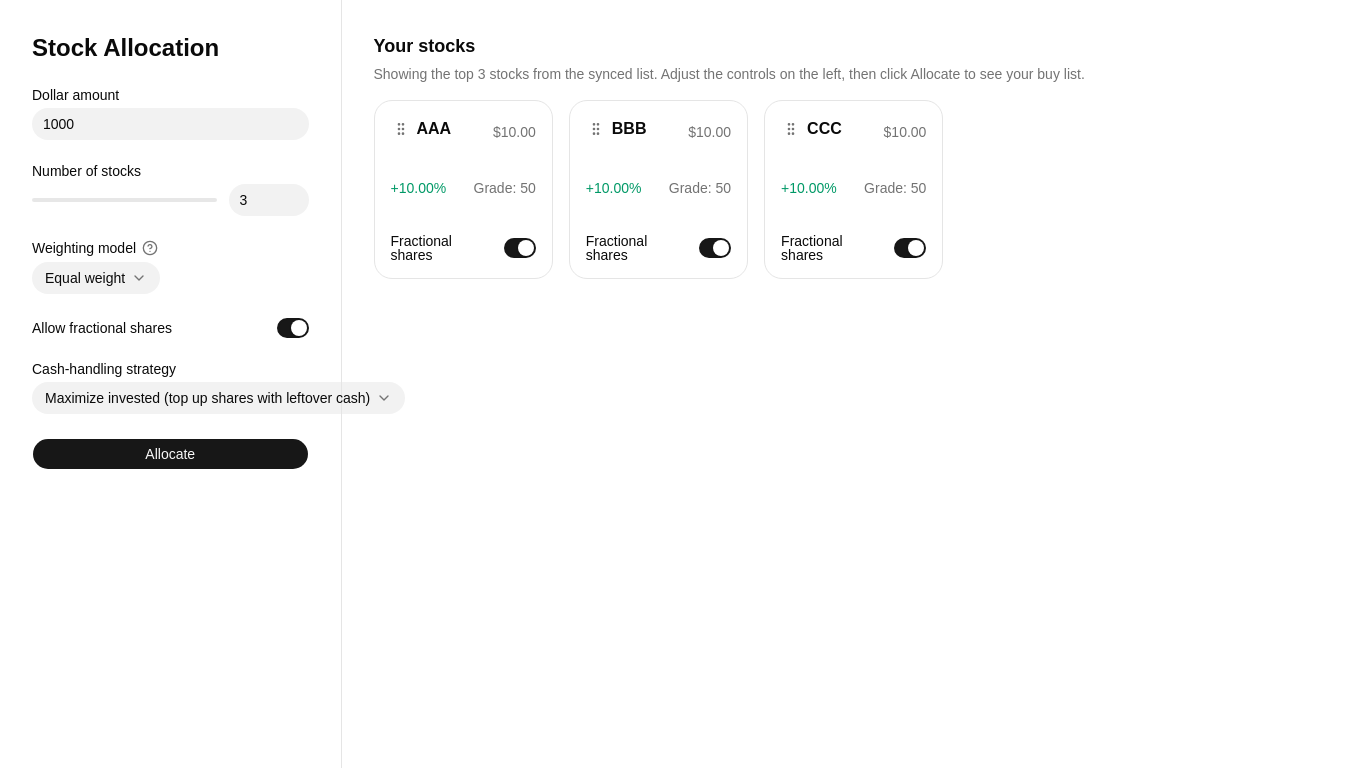
Scenario: AllocationPage - clicking Allocate › runs the calculation engine with the current inputs and displays the results
Replace the text in the number field labelled "Dollar amount" with "300": (170, 124) top-left (32, 108), bottom-right (308, 140)
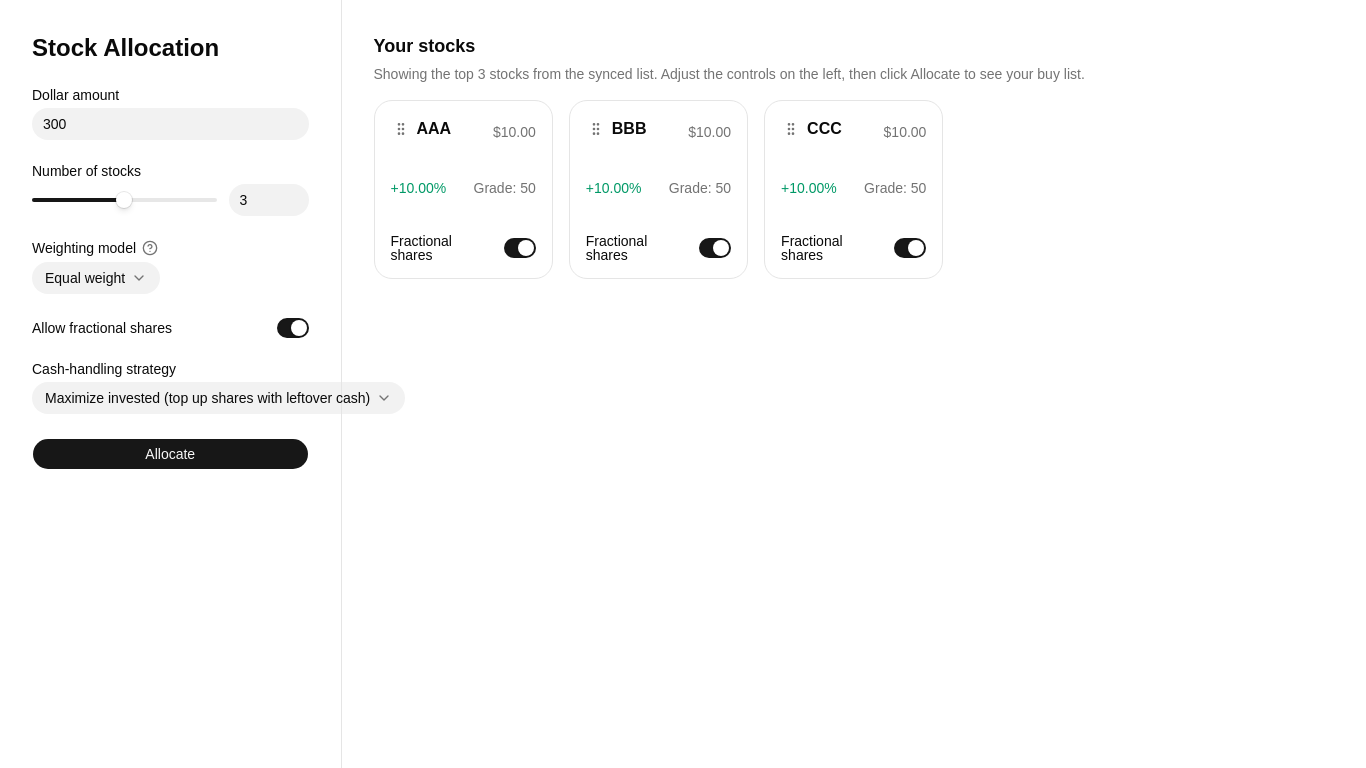
Click the button "Allocate": click(170, 454) top-left (32, 438), bottom-right (308, 470)
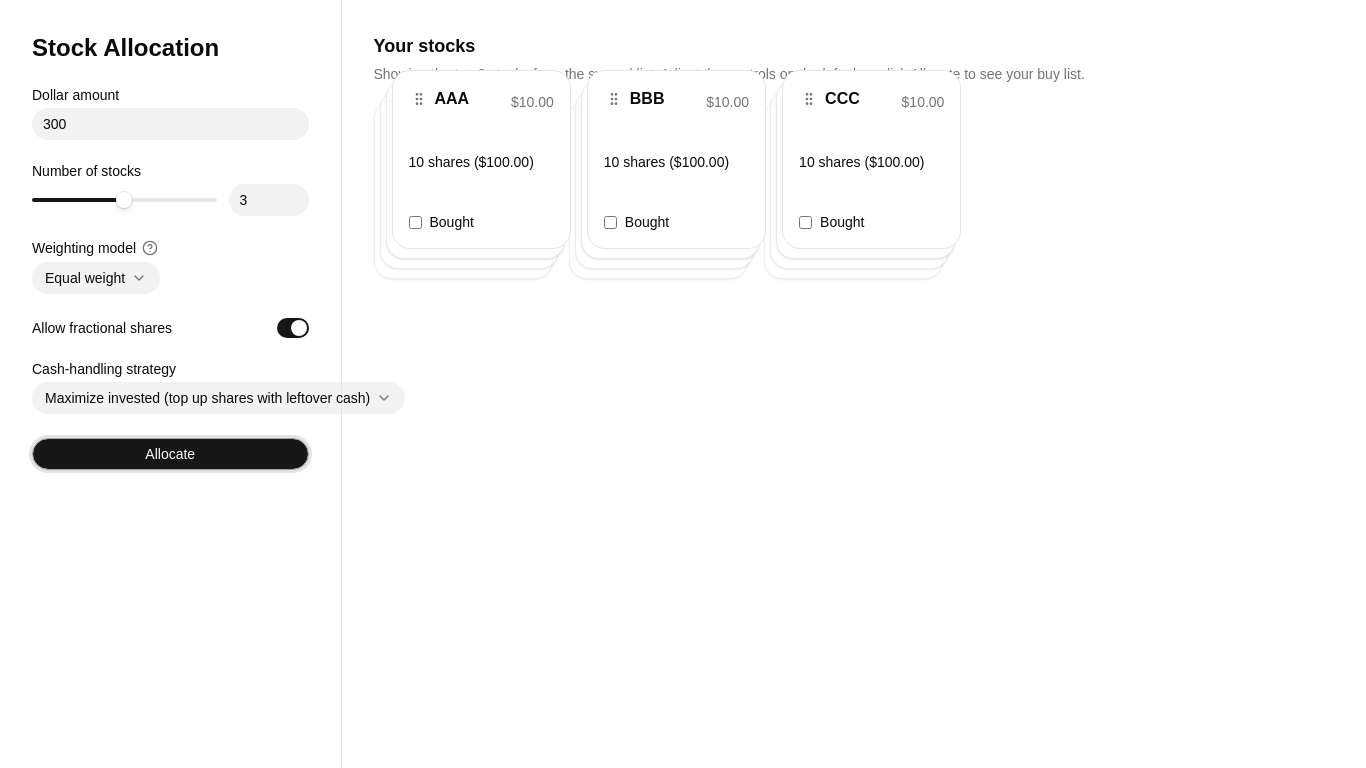
Result: the text "10 shares ($100.00)" is shown 3 times at top-left (408, 152), bottom-right (554, 172); top-left (604, 152), bottom-right (749, 172); top-left (799, 152), bottom-right (944, 172)
